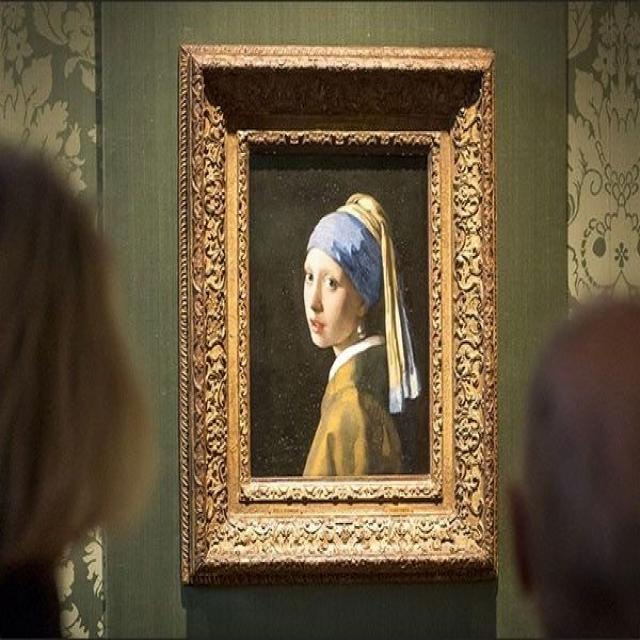Tablo: (246, 144, 431, 484)
